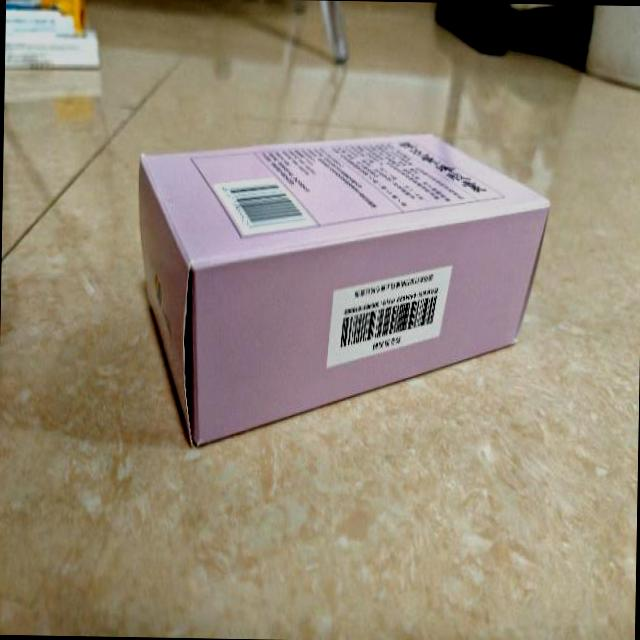box: (135, 127, 550, 450)
